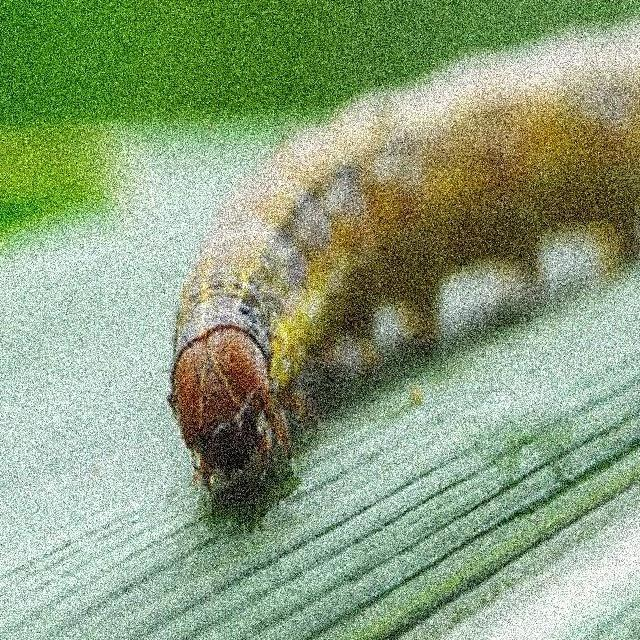gusano_cogollero: (164, 36, 640, 503)
